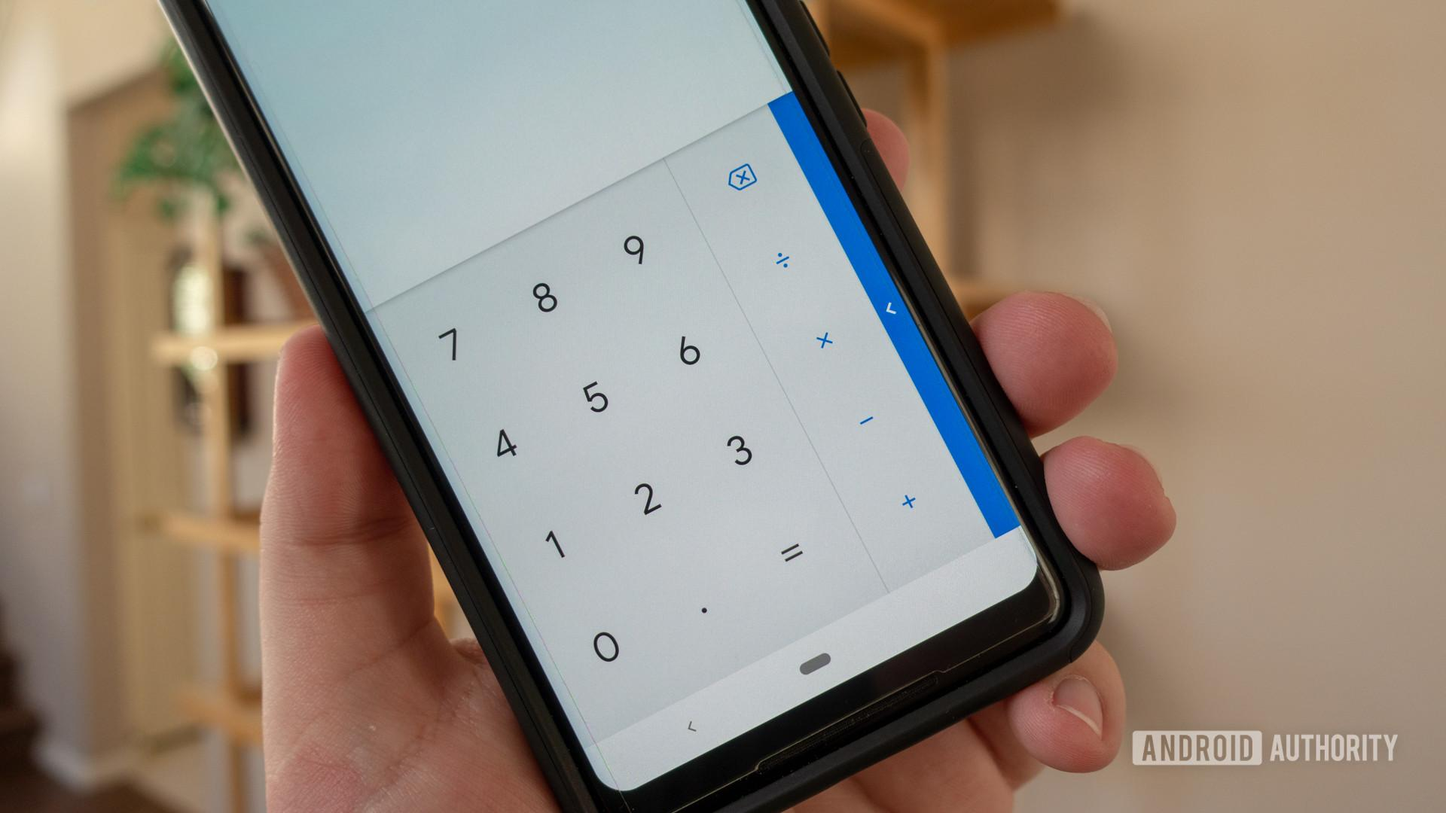Calculator: (315, 74, 1047, 758)
